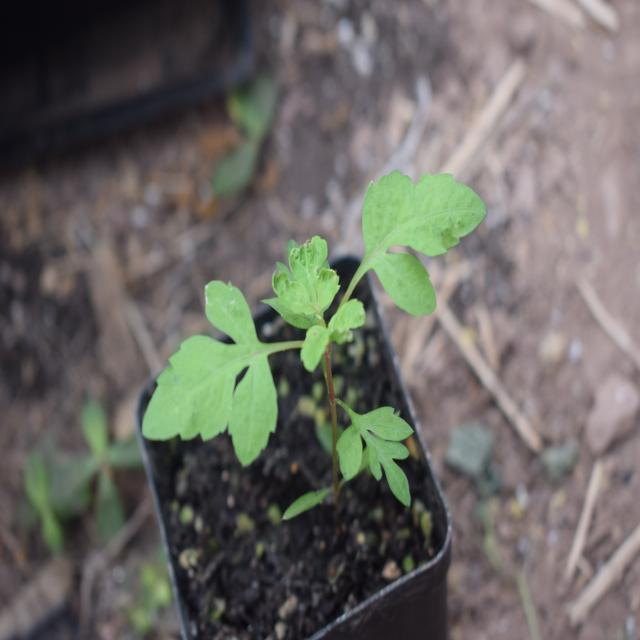Bidens pilosa: (142, 134, 484, 506)
